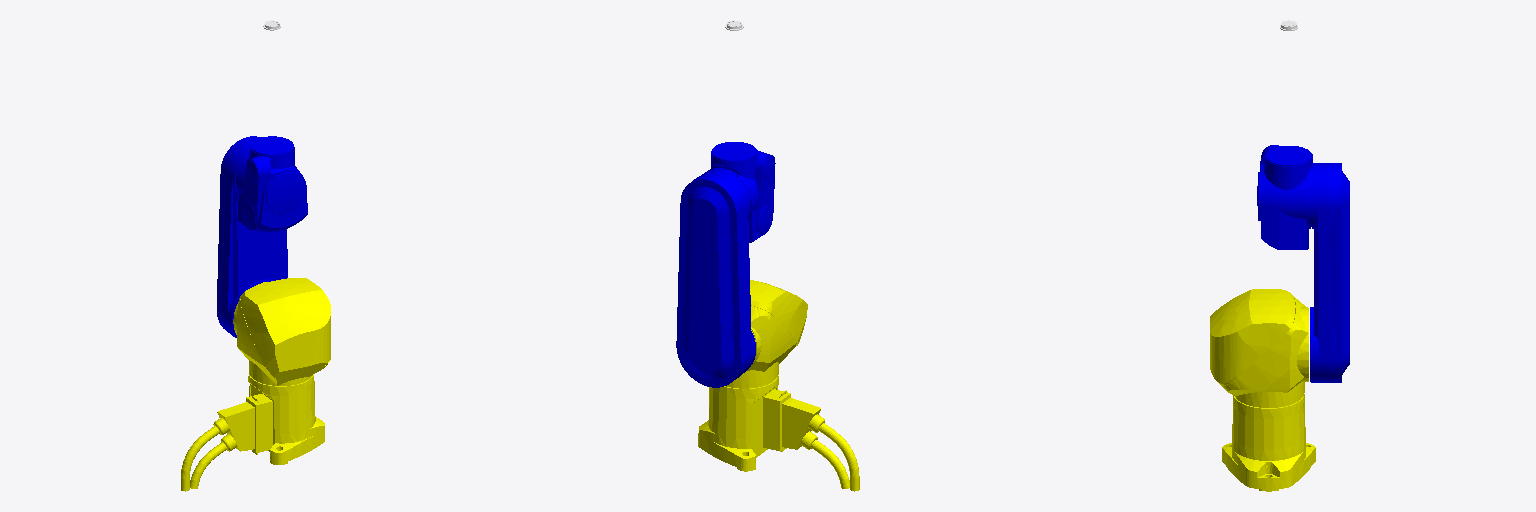
The robot description file, URDF, robot "staubli_rx60l":
<?xml version="1.0" ?>
<!-- =================================================================================== -->
<!-- |    This document was autogenerated by xacro from rx60l.xacro                    | -->
<!-- |    EDITING THIS FILE BY HAND IS NOT RECOMMENDED                                 | -->
<!-- =================================================================================== -->
<robot name="staubli_rx60l" xmlns:xacro="http://ros.org/wiki/xacro">
  <link name="staubli_rx60l_link1">
    <visual>
      <origin rpy="0 0 0" xyz="0 0 0"/>
      <geometry>
        <mesh filename="package://staubli/meshes/rx60l/visual/rx60bl_hb.dae" scale="0.001 0.001 0.001"/>
      </geometry>
      <material name="Yellow">
        <color rgba="245 196 0 1.0"/>
      </material>
    </visual>
    <collision>
      <origin rpy="0 0 0" xyz="0 0 0"/>
      <geometry>
        <mesh filename="package://staubli/meshes/rx60l/visual/rx60bl_hb.dae" scale="0.001 0.001 0.001"/>
      </geometry>
      <material name="Blue">
        <color rgba="0 0 255 1.0"/>
      </material>
    </collision>
  </link>
  <link name="staubli_rx60l_link2">
    <visual>
      <origin rpy="0 0 0" xyz="0 0 0"/>
      <geometry>
        <mesh filename="package://staubli/meshes/rx60l/visual/rx60bl_hb1.dae" scale="0.001 0.001 0.001"/>
      </geometry>
      <material name="Yellow">
        <color rgba="245 196 0 1.0"/>
      </material>
    </visual>
    <collision>
      <origin rpy="0 0 0" xyz="0 0 0"/>
      <geometry>
        <mesh filename="package://staubli/meshes/rx60l/visual/rx60bl_hb1.dae" scale="0.001 0.001 0.001"/>
      </geometry>
      <material name="Green">
        <color rgba="0 0 255 1.0"/>
      </material>
    </collision>
  </link>
  <link name="staubli_rx60l_link3">
    <visual>
      <origin rpy="0 0 0" xyz="0 0 0"/>
      <geometry>
        <mesh filename="package://staubli/meshes/rx60l/visual/rx60bl_hb2.stl" scale="0.001 0.001 0.001"/>
      </geometry>
      <material name="White">
        <color rgba="0 0 255 1.0"/>
      </material>
    </visual>
    <collision>
      <origin rpy="0 0 0" xyz="0 0 0"/>
      <geometry>
        <mesh filename="package://staubli/meshes/rx60l/visual/rx60bl_hb2.stl" scale="0.001 0.001 0.001"/>
      </geometry>
      <material name="Blue">
        <color rgba="0 0 255 1.0"/>
      </material>
    </collision>
  </link>
  <link name="staubli_rx60l_link4">
    <visual>
      <origin rpy="0 0 0" xyz="0 0 0"/>
      <geometry>
        <mesh filename="package://staubli/meshes/rx60l/visual/rx60bl_hb3.dae" scale="0.001 0.001 0.001"/>
      </geometry>
      <material name="Red">
        <color rgba="0 0 255 1.0"/>
      </material>
    </visual>
    <collision>
      <origin rpy="0 0 0" xyz="0 0 0"/>
      <geometry>
        <mesh filename="package://staubli/meshes/rx60l/visual/rx60bl_hb3.dae" scale="0.001 0.001 0.001"/>
      </geometry>
      <material name="Blue">
        <color rgba="0 0 255 1.0"/>
      </material>
    </collision>
  </link>
  <link name="staubli_rx60l_link5">
    <visual>
      <origin rpy="0 0 0" xyz="0 0 0"/>
      <geometry>
        <mesh filename="package://staubli/meshes/rx60l/visual/rx60bl_hb4.dae" scale="0.001 0.001 0.001"/>
      </geometry>
      <material name="Blue">
        <color rgba="0 0 255 1.0"/>
      </material>
    </visual>
    <collision>
      <origin rpy="0 0 0" xyz="0 0 0"/>
      <geometry>
        <mesh filename="package://staubli/meshes/rx60l/visual/rx60bl_hb4.dae" scale="0.001 0.001 0.001"/>
      </geometry>
      <material name="Blue">
        <color rgba="0 0 255 1.0"/>
      </material>
    </collision>
  </link>
  <link name="staubli_rx60l_link6">
    <visual>
      <origin rpy="0 0 0" xyz="0 0 0"/>
      <geometry>
        <mesh filename="package://staubli/meshes/rx60l/visual/rx60bl_hb5.dae" scale="0.001 0.001 0.001"/>
      </geometry>
      <material name="Blue">
        <color rgba="0 0 255 1.0"/>
      </material>
    </visual>
    <collision>
      <origin rpy="0 0 0" xyz="0 0 0"/>
      <geometry>
        <mesh filename="package://staubli/meshes/rx60l/visual/rx60bl_hb5.dae" scale="0.001 0.001 0.001"/>
      </geometry>
      <material name="Blue">
        <color rgba="0 0 255 1.0"/>
      </material>
    </collision>
  </link>
  <link name="staubli_rx60l_link7">
    <visual>
      <origin rpy="0 0 0" xyz="0 0 0"/>
      <geometry>
        <mesh filename="package://staubli/meshes/rx60l/visual/rx60bl_hb6.dae" scale="0.001 0.001 0.001"/>
      </geometry>
      <material name="Gray">
        <color rgba="100 100 100 1.0"/>
      </material>
    </visual>
    <collision>
      <origin rpy="0 0 0" xyz="0 0 0"/>
      <geometry>
        <mesh filename="package://staubli/meshes/rx60l/visual/rx60bl_hb6.dae" scale="0.001 0.001 0.001"/>
      </geometry>
      <material name="Gray">
        <color rgba="100 100 100 1.0"/>
      </material>
    </collision>
  </link>
  <link name="staubli_rx60l_tool0"/>
  <joint name="joint_1" type="revolute">
    <origin xyz="0 0 0"/>
    <parent link="staubli_rx60l_link1"/>
    <child link="staubli_rx60l_link2"/>
    <axis xyz="0 0 1"/>
    <limit effort="100" lower="-2.792526803" upper="2.792526803" velocity="5.009094953"/>
  </joint>
  <joint name="joint_2" type="revolute">
    <origin xyz="0 0 0.341"/>
    <parent link="staubli_rx60l_link2"/>
    <child link="staubli_rx60l_link3"/>
    <axis xyz="0 1 0"/>
    <limit effort="100" lower="-2.225294796" upper="2.225294796" velocity="5.009094953"/>
  </joint>
  <joint name="joint_3" type="revolute">
    <origin xyz="0 0.049 0.400"/>
    <parent link="staubli_rx60l_link3"/>
    <child link="staubli_rx60l_link4"/>
    <axis xyz="0 1 0"/>
    <limit effort="100" lower="-2.347467844" upper="2.347467844" velocity="5.567600314"/>
  </joint>
  <joint name="joint_4" type="revolute">
    <origin xyz="0 0 0"/>
    <parent link="staubli_rx60l_link4"/>
    <child link="staubli_rx60l_link5"/>
    <axis xyz="0 0 1"/>
    <limit effort="100" lower="-4.71238898" upper="4.71238898" velocity="7.155849933"/>
  </joint>
  <joint name="joint_5" type="revolute">
    <origin xyz="0 0 0.400"/>
    <parent link="staubli_rx60l_link5"/>
    <child link="staubli_rx60l_link6"/>
    <axis xyz="0 1 0"/>
    <limit effort="100" lower="-1.911135531" upper="2.103121749" velocity="5.585053606"/>
  </joint>
  <joint name="joint_6" type="revolute">
    <origin xyz="0 0 0.065"/>
    <parent link="staubli_rx60l_link6"/>
    <child link="staubli_rx60l_link7"/>
    <axis xyz="0 0 1"/>
    <limit effort="100" lower="-4.71238898" upper="4.71238898" velocity="12.217304764"/>
  </joint>
  <joint name="joint_6-tool0" type="fixed">
    <parent link="staubli_rx60l_link7"/>
    <child link="staubli_rx60l_tool0"/>
    <origin rpy="0 0 0" xyz="0 0 0"/>
  </joint>
</robot>

--- Render facts (derived) ---
The picture shows the robot from 3 angles, left to right: view 1: azimuth 30°, elevation 25°; view 2: azimuth 150°, elevation 25°; view 3: azimuth 270°, elevation 25°; orthographic projection.
Robot: staubli_rx60l — 8 links, 7 joints (6 revolute, 1 fixed); root link staubli_rx60l_link1; default pose: all joints at 0.
Links seen in each view (by area): view 1: staubli_rx60l_link2, staubli_rx60l_link1, staubli_rx60l_link3, staubli_rx60l_link4; view 2: staubli_rx60l_link3, staubli_rx60l_link1, staubli_rx60l_link2, staubli_rx60l_link4; view 3: staubli_rx60l_link2, staubli_rx60l_link3, staubli_rx60l_link1, staubli_rx60l_link4.
Link boxes in pixels (x1=…): staubli_rx60l_link2: x1=233, y1=278, x2=330, y2=385; staubli_rx60l_link1: x1=181, y1=374, x2=324, y2=491; staubli_rx60l_link3: x1=217, y1=136, x2=287, y2=337; staubli_rx60l_link4: x1=236, y1=136, x2=307, y2=232; staubli_rx60l_link3: x1=676, y1=169, x2=755, y2=387; staubli_rx60l_link1: x1=698, y1=376, x2=859, y2=491; staubli_rx60l_link2: x1=726, y1=280, x2=807, y2=388; staubli_rx60l_link4: x1=708, y1=142, x2=775, y2=242; staubli_rx60l_link2: x1=1210, y1=289, x2=1308, y2=407; staubli_rx60l_link3: x1=1310, y1=163, x2=1349, y2=382; staubli_rx60l_link1: x1=1222, y1=394, x2=1315, y2=491; staubli_rx60l_link4: x1=1257, y1=145, x2=1312, y2=249.
Size in the robot's own frame: 0.4386 by 0.341 by 1.26 metres.
Meshes: 7 distinct files referenced, 5 mesh visuals loaded (1 binary STL, 4 Collada DAE); not drawn: 2 (reference not matched to a file when rendering).